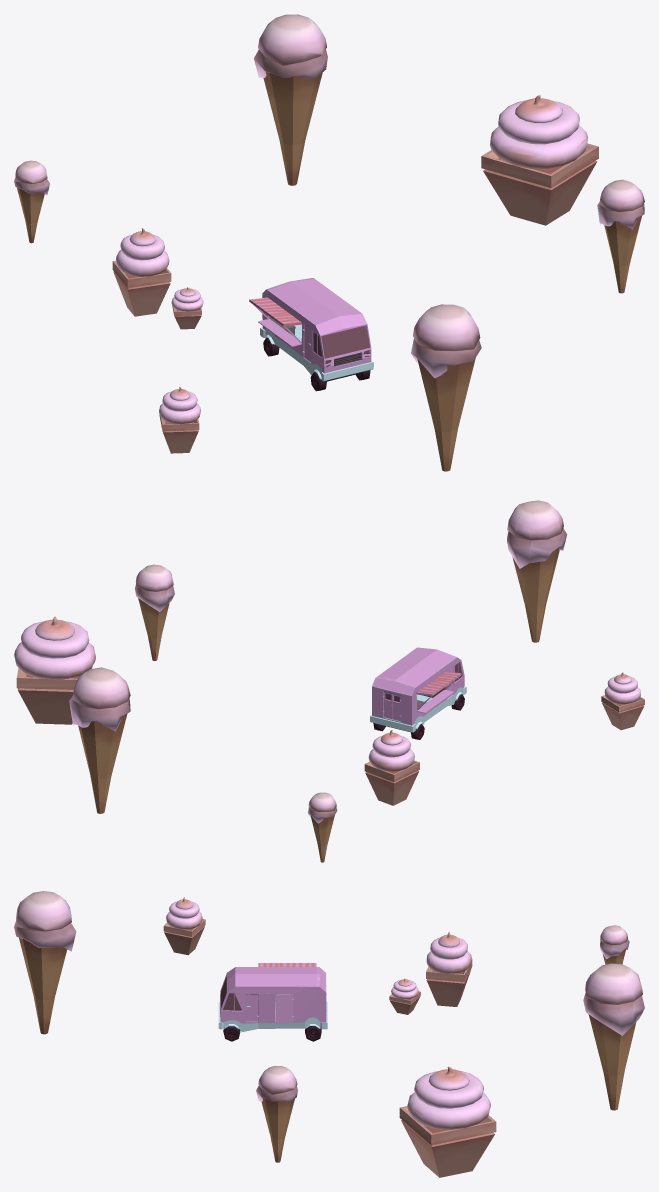
Rendered from Truck.fbx.
3 views of the same model, one above another, from view 1: azimuth 30°, elevation 25°; view 2: azimuth 150°, elevation 25°; view 3: azimuth 270°, elevation 25° (orthographic). The views are drawn at different scales.
Parts seen in each view (by area): view 1: Cube.002, Cylinder.003, Plane.001, Cylinder.001, Cube.001, Cylinder, Cube.004, Cylinder.002, Plane.005, Cube.003; view 2: Cube.002, Cylinder.003, Cylinder.001, Plane.001, Cube.001, Cylinder, Cube.004, Cylinder.002, Plane.005; view 3: Cube.002, Plane.001, Cylinder.003, Cylinder.001, Cube.001, Cylinder, Cube.004, Cylinder.002, Cube.003, Plane.002, Plane.004.
Part boxes in pixels (x1=…): Cube.002: x1=481, y1=95, x2=598, y2=225; Cylinder.003: x1=254, y1=14, x2=327, y2=185; Plane.001: x1=260, y1=278, x2=373, y2=381; Cylinder.001: x1=411, y1=304, x2=481, y2=471; Cube.001: x1=112, y1=228, x2=171, y2=316; Cylinder: x1=597, y1=179, x2=644, y2=293; Cube.004: x1=159, y1=386, x2=200, y2=453; Cylinder.002: x1=14, y1=160, x2=49, y2=243; Plane.005: x1=249, y1=297, x2=301, y2=346; Cube.003: x1=171, y1=287, x2=203, y2=329; Cube.002: x1=14, y1=616, x2=95, y2=724; Cylinder.003: x1=69, y1=667, x2=130, y2=813; Cylinder.001: x1=507, y1=500, x2=567, y2=642; Plane.001: x1=370, y1=647, x2=466, y2=732; Cube.001: x1=364, y1=730, x2=419, y2=805; Cylinder: x1=134, y1=564, x2=174, y2=660; Cube.004: x1=601, y1=672, x2=644, y2=730; Cylinder.002: x1=308, y1=792, x2=337, y2=862; Plane.005: x1=416, y1=671, x2=461, y2=713; Cube.002: x1=399, y1=1066, x2=496, y2=1177; Plane.001: x1=218, y1=967, x2=327, y2=1031; Cylinder.003: x1=583, y1=963, x2=644, y2=1110; Cylinder.001: x1=14, y1=891, x2=76, y2=1034; Cube.001: x1=426, y1=932, x2=472, y2=1006; Cylinder: x1=256, y1=1066, x2=297, y2=1162; Cube.004: x1=163, y1=897, x2=205, y2=955; Cylinder.002: x1=600, y1=925, x2=629, y2=964; Cube.003: x1=389, y1=978, x2=420, y2=1014; Plane.002: x1=276, y1=994, x2=293, y2=1023; Plane.004: x1=223, y1=1026, x2=321, y2=1041.
Bounding box in the file's own units: 2940 × 798 × 3208.
